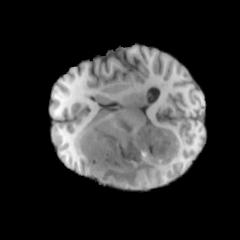glioma: (74, 114, 181, 189)
